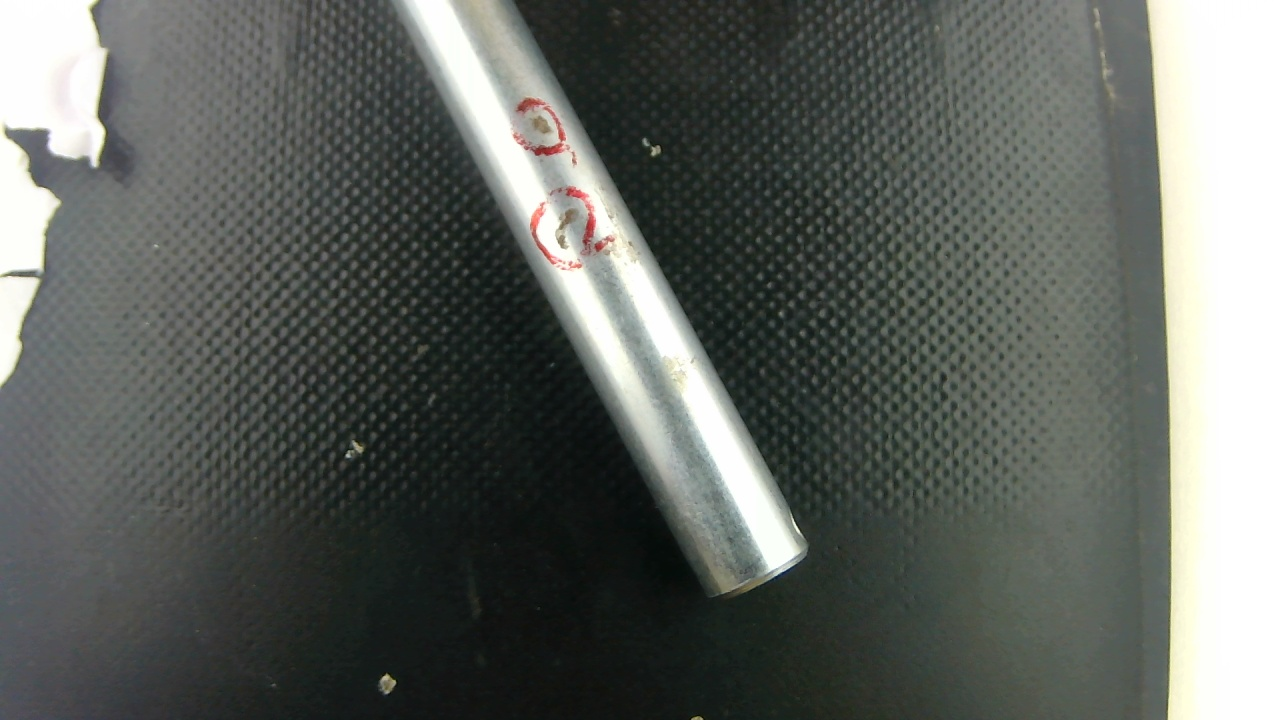rust_pin: (552, 199, 581, 259)
